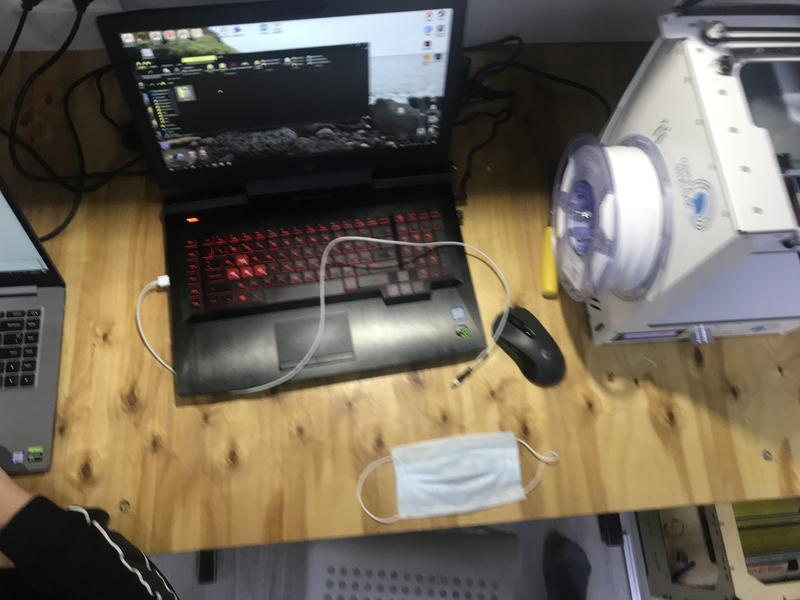medical_mask: (359, 432, 557, 509)
